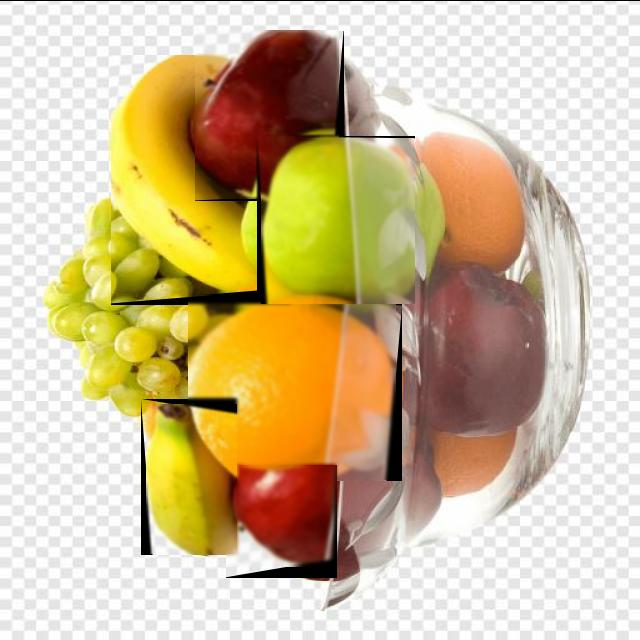Apple: (261, 137, 414, 303), (195, 30, 339, 198), (226, 464, 337, 566)
Banana: (111, 55, 277, 294), (147, 404, 237, 553)
Orange: (189, 298, 396, 479)
